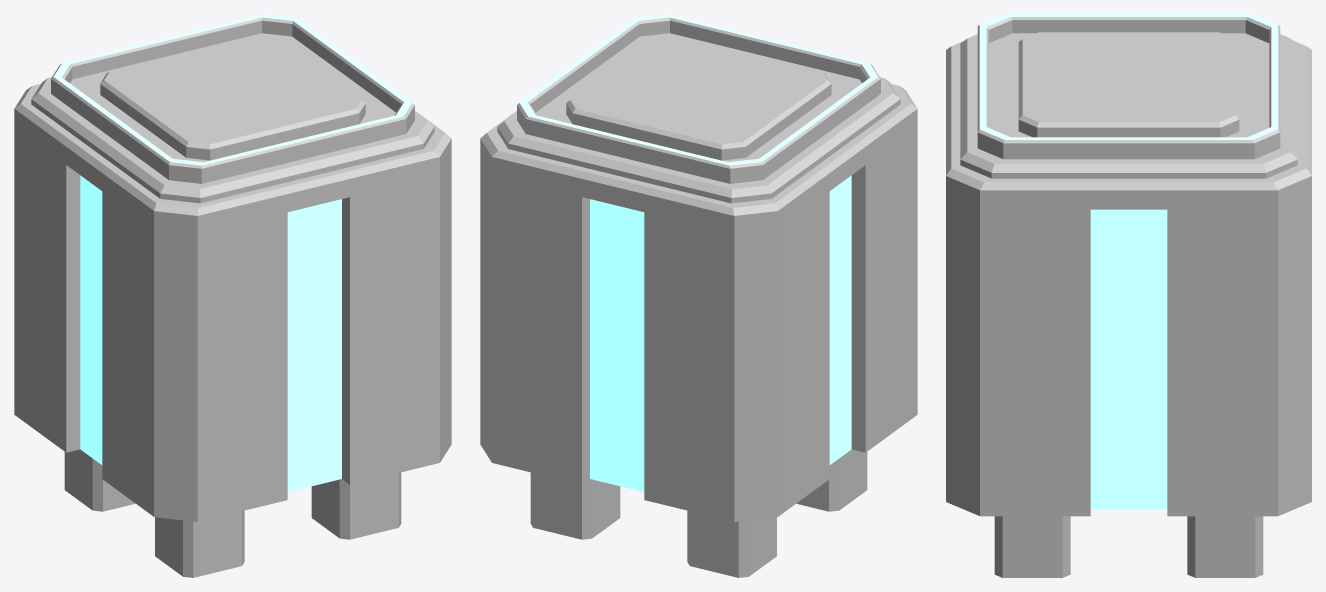
File: Building2.fbx
The picture shows the model from 3 angles, left to right: view 1: azimuth 30°, elevation 25°; view 2: azimuth 150°, elevation 25°; view 3: azimuth 270°, elevation 25°; orthographic projection. The views are drawn at different scales.
Parts seen in each view (by area): view 1: Cube.003; view 2: Cube.003; view 3: Cube.003.
Part boxes in pixels (x1,y1,x2,y2): Cube.003: (14, 14, 451, 577); Cube.003: (480, 14, 917, 577); Cube.003: (946, 14, 1311, 577).
Size of the model in its own units: 11.39 by 15.25 by 11.39.
